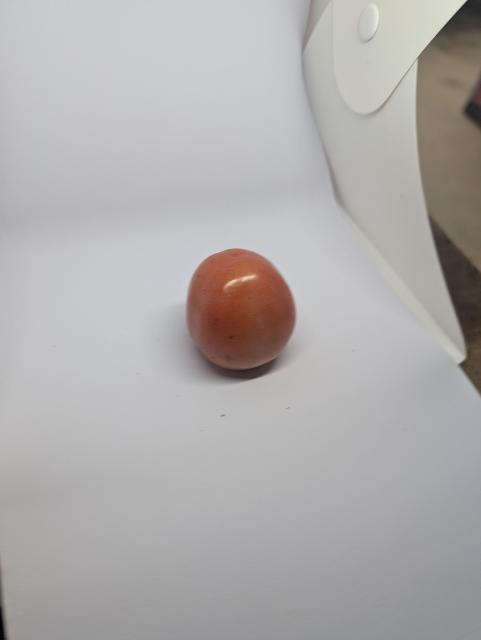red: (184, 239, 304, 380)
